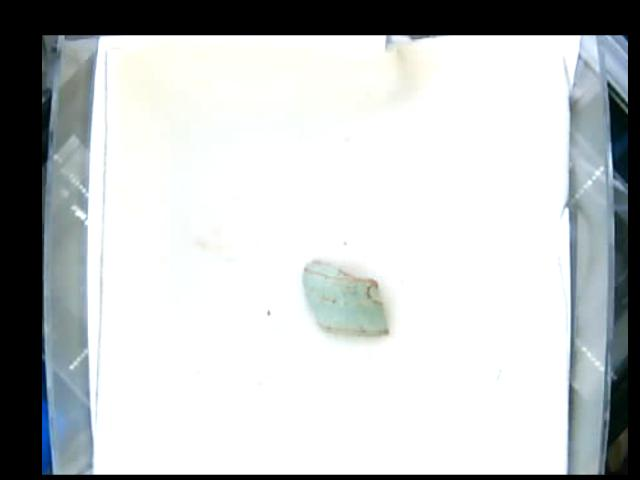China: (302, 257, 390, 335)
